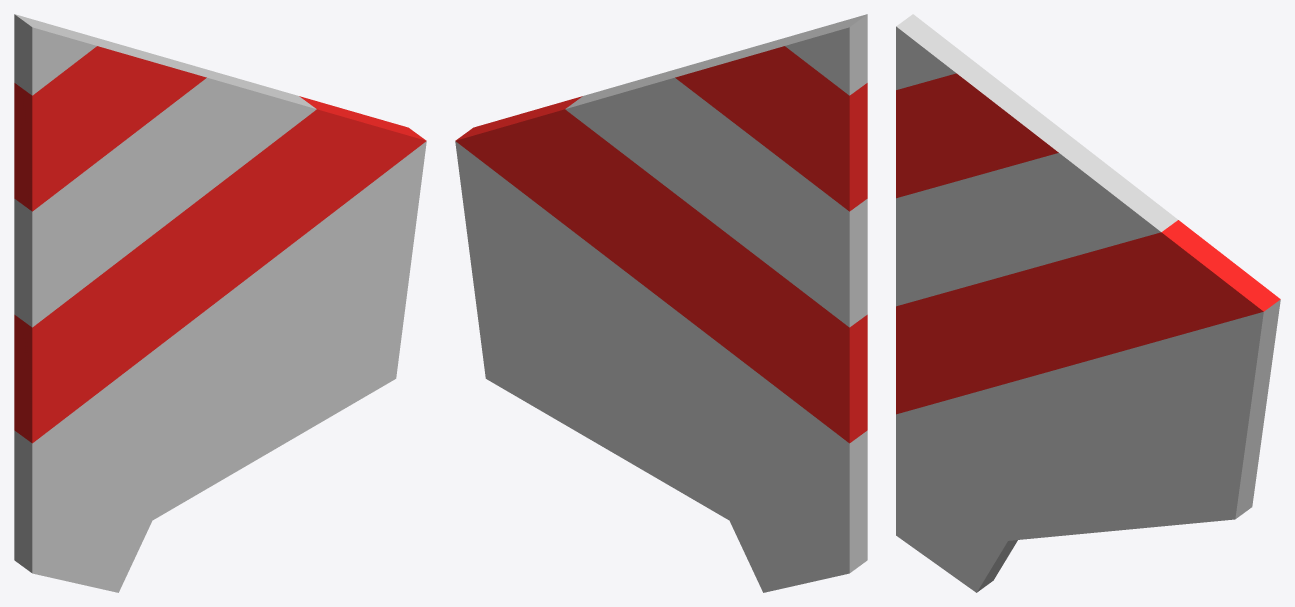
File: SBMidleLeft.fbx
The picture shows the model from 3 angles, left to right: view 1: azimuth 30°, elevation 25°; view 2: azimuth 150°, elevation 25°; view 3: azimuth 330°, elevation 25°; orthographic projection. The views are drawn at different scales.
Visible parts, largest first — view 1: Plane.047; view 2: Plane.047; view 3: Plane.047.
Boxes of the visible parts, x1,y1,x2,y2 form: Plane.047: (14,14,426,592); Plane.047: (455,14,867,592); Plane.047: (896,14,1280,592).
Size of the model in its own units: 1.53 by 2.17 by 0.1223.
